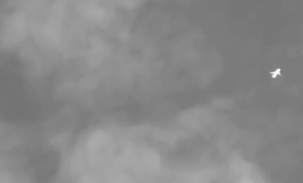Target: (270, 69, 280, 78)
